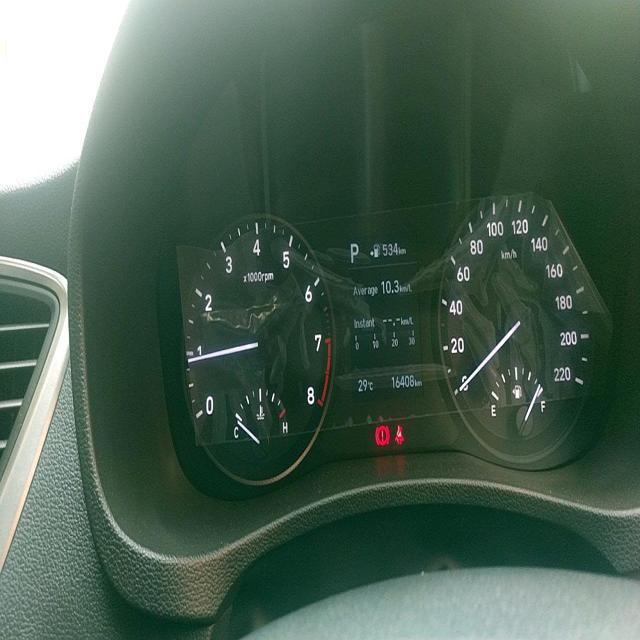odometer: (390, 371, 415, 389)
